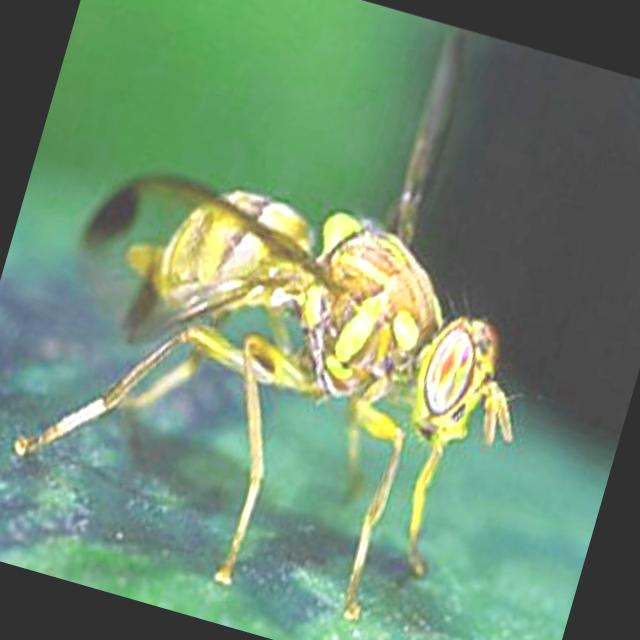melon fly: (0, 28, 600, 640)
